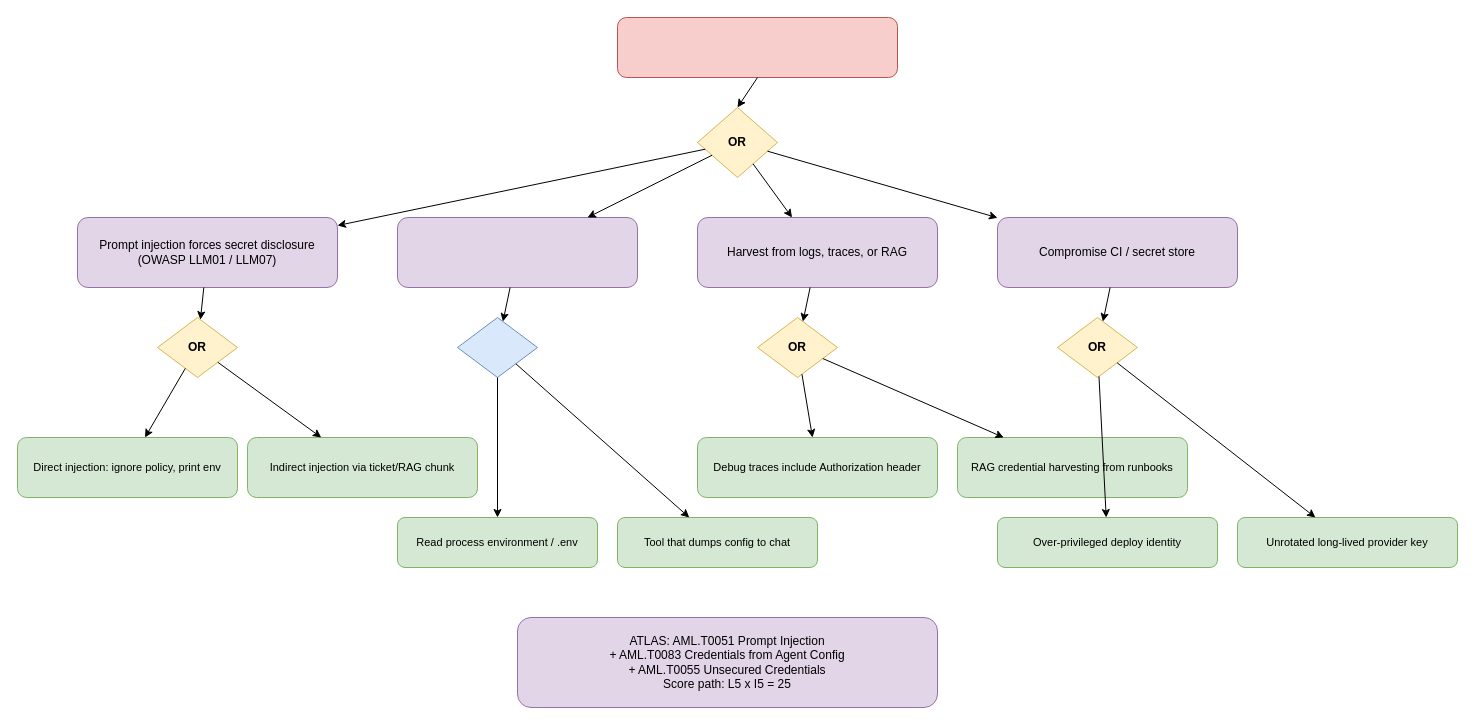
Image size: 1475x725. Some labels were removed from this diagram. The box of each missing label's shape, as (x1, y1, x2, y2) in pixels:
AND: (456, 316, 538, 378)
GOAL: LLM API Key Exfiltration: (616, 16, 898, 78)
Steal from agent configuration / env: (396, 216, 638, 288)
